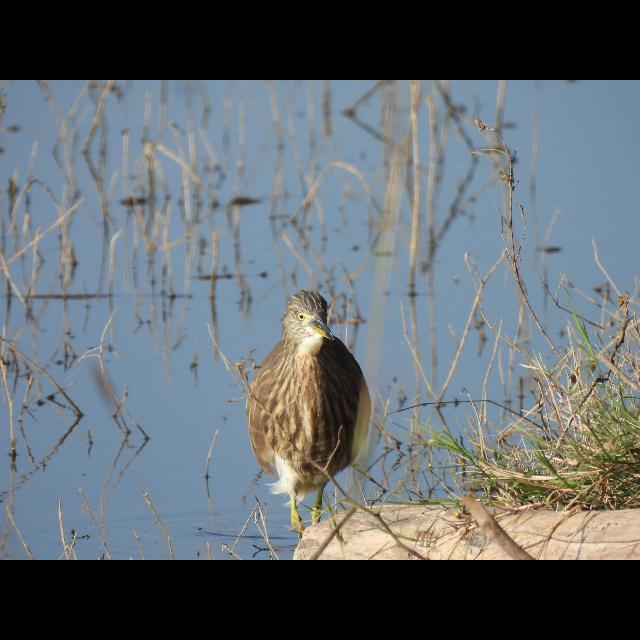heron: (238, 282, 384, 536)
